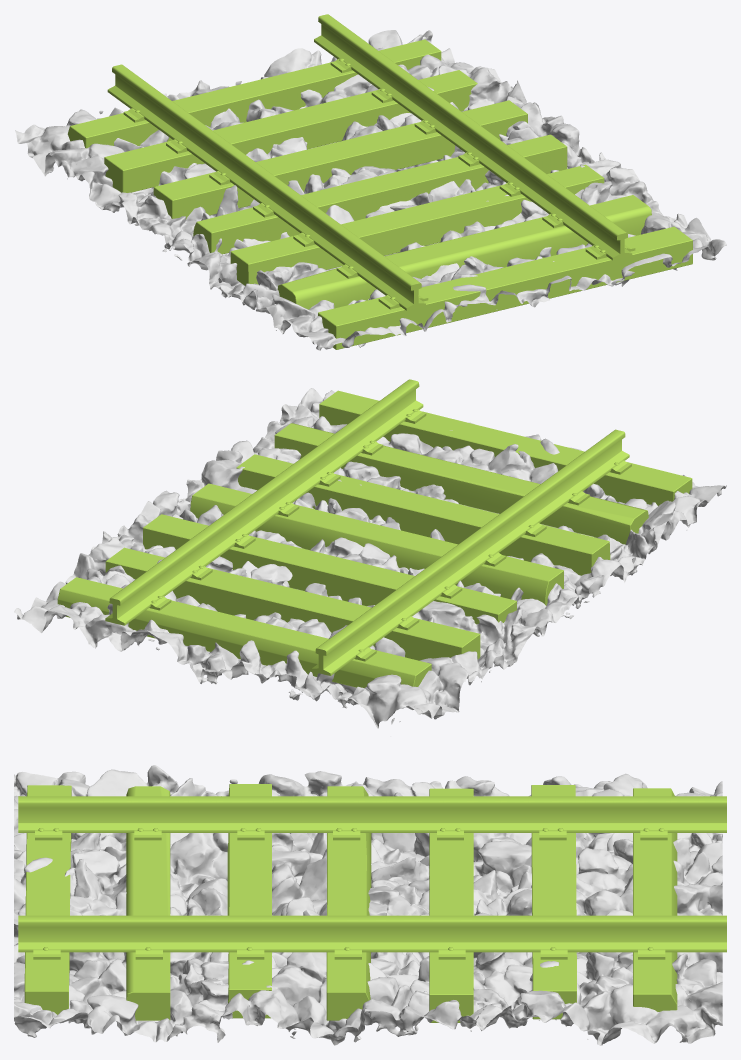
The model's file is railway.glb.
The picture shows the model from 3 angles, top to bottom: view 1: azimuth 30°, elevation 25°; view 2: azimuth 150°, elevation 25°; view 3: azimuth 270°, elevation 25°; orthographic projection. The views are drawn at different scales.
Parts seen in each view (by area): view 1: Rail, Gravel; view 2: Rail, Gravel; view 3: Rail, Gravel.
Boxes of the visible parts, left/top/right/bottom form: Rail: left=67, top=14, right=692, bottom=349; Gravel: left=15, top=30, right=726, bottom=350; Rail: left=57, top=379, right=692, bottom=687; Gravel: left=14, top=388, right=726, bottom=736; Rail: left=18, top=784, right=726, bottom=1022; Gravel: left=14, top=765, right=722, bottom=1045.
Bounding box in the file's own units: 3.2 × 0.6024 × 4.02.
